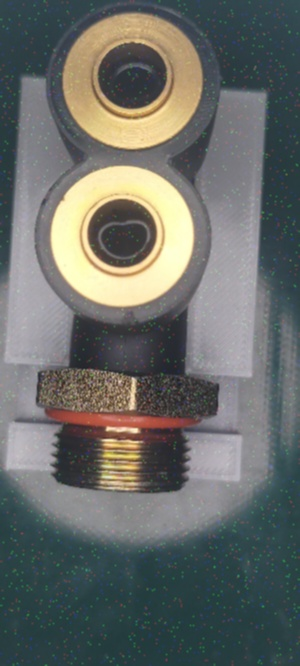bump: (118, 307, 142, 330)
joint line: (121, 334, 131, 363)
off-centered: (93, 217, 156, 264)
